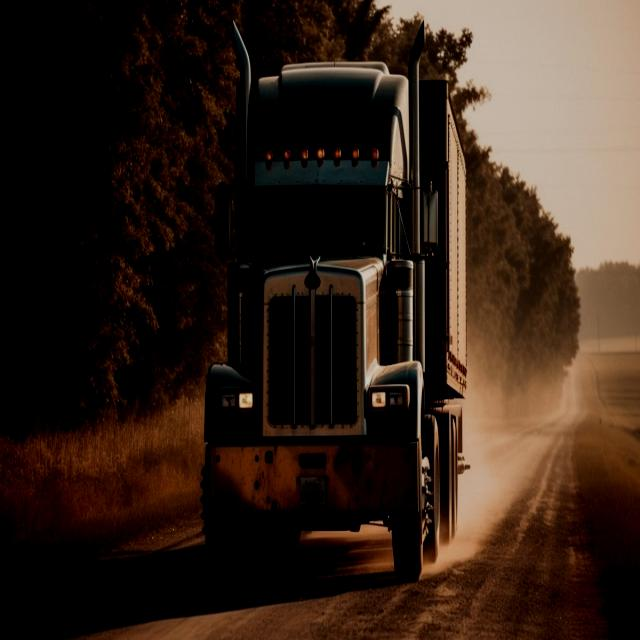TRUCK: (202, 9, 467, 587)
